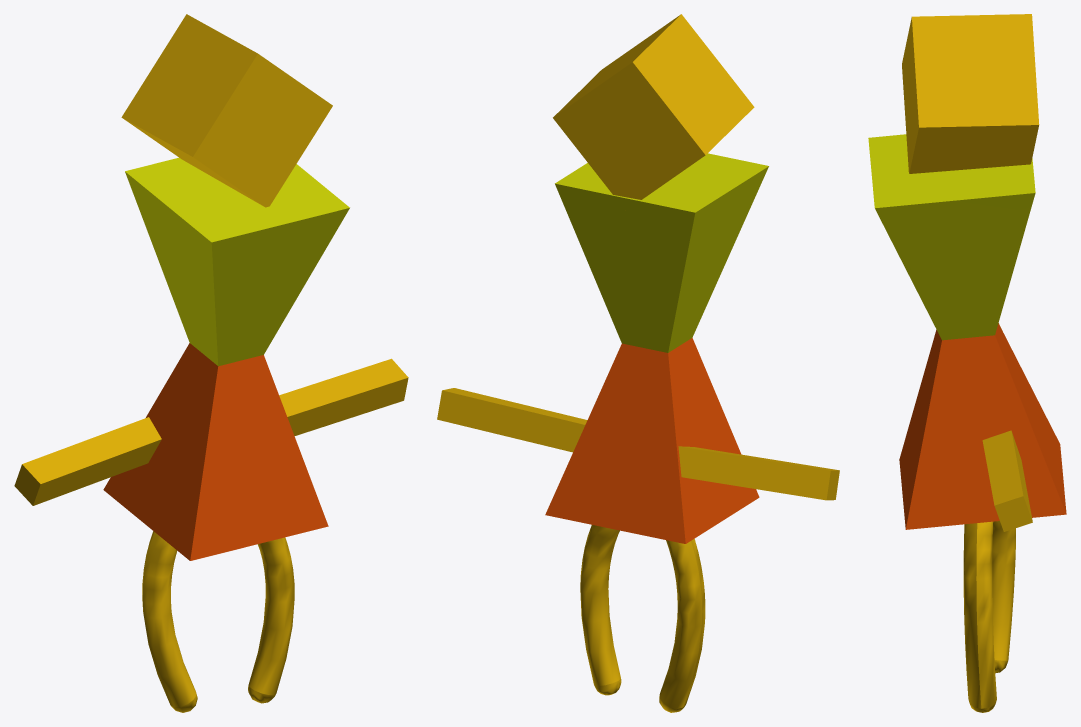
The model's file is guest10.fbx.
3 renders of one model, left to right at view 1: azimuth 30°, elevation 25°; view 2: azimuth 150°, elevation 25°; view 3: azimuth 270°, elevation 25°, orthographic. The views are drawn at different scales.
Parts seen in each view (by area): view 1: guest10; view 2: guest10; view 3: guest10.
Boxes of the visible parts, x1,y1,x2,y2 form: guest10: [14, 14, 408, 712]; guest10: [437, 14, 839, 712]; guest10: [868, 14, 1066, 712].
Bounding box in the file's own units: 144 × 242 × 64.43.
